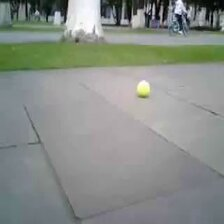tennis: (136, 79, 151, 97)
